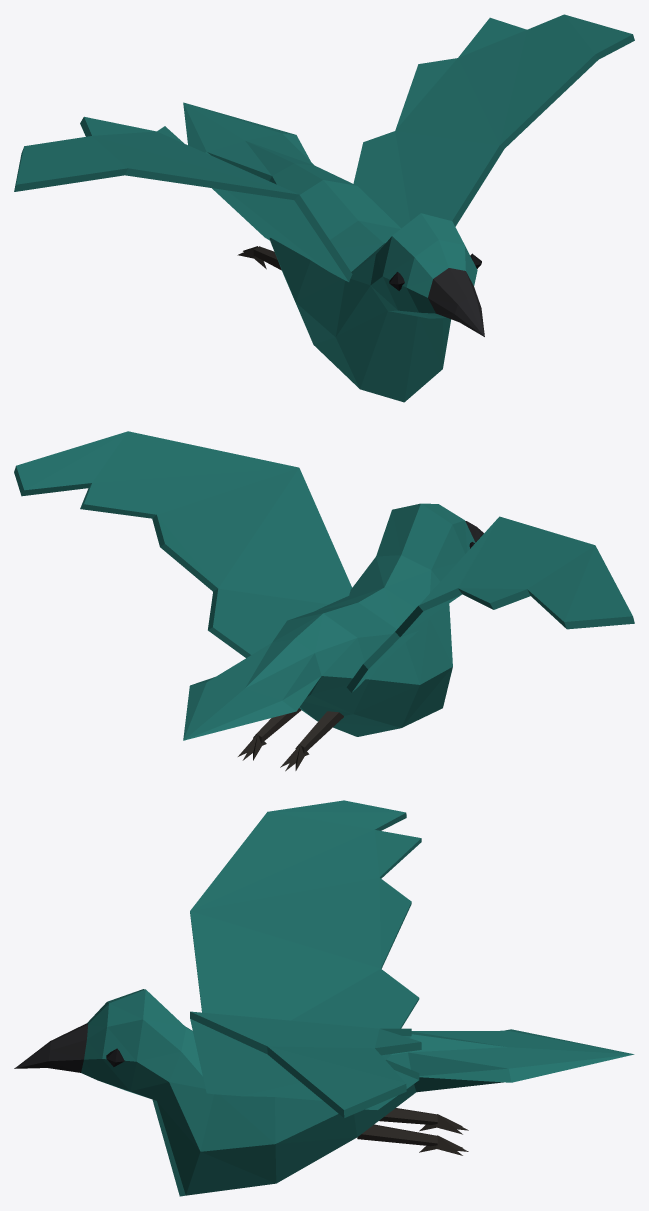
Rendered from crow-spread.glb.
3 renders of one model, top to bottom at view 1: azimuth 30°, elevation 25°; view 2: azimuth 150°, elevation 25°; view 3: azimuth 270°, elevation 25°, orthographic. The views are drawn at different scales.
Parts seen in each view (by area): view 1: Crow_Spread; view 2: Crow_Spread; view 3: Crow_Spread.
Boxes of the visible parts, left/top/right/bottom form: Crow_Spread: left=14, top=14, right=634, bottom=402; Crow_Spread: left=14, top=431, right=634, bottom=771; Crow_Spread: left=14, top=800, right=634, bottom=1196.
Size of the model in its own units: 3.49 by 1.4 by 2.94.
